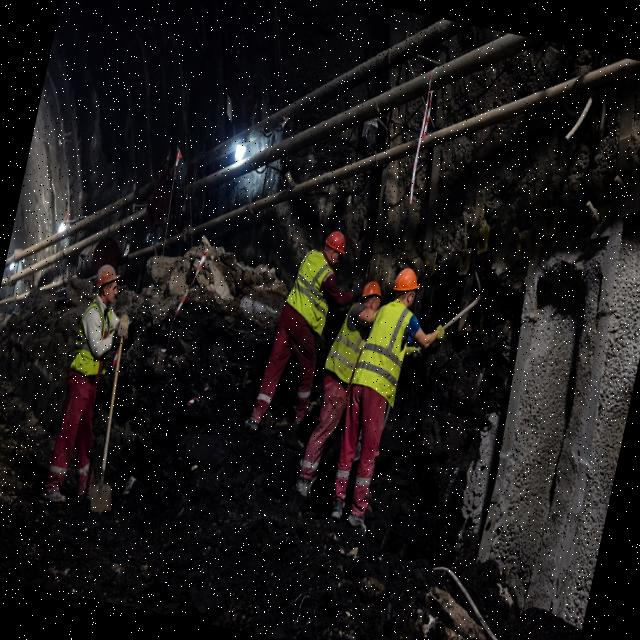Helmet: (392, 266, 425, 301), (94, 263, 125, 297), (321, 230, 350, 258), (361, 280, 387, 304)
Jacket: (358, 295, 416, 410), (281, 252, 342, 330), (70, 294, 122, 383), (324, 301, 376, 389)
